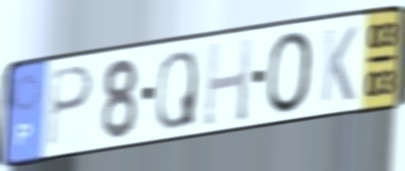8: (100, 55, 142, 142)
H: (200, 34, 255, 130)
K: (318, 23, 360, 106)
O: (265, 28, 315, 117)
P: (46, 63, 96, 152)
Q: (153, 47, 199, 132)
